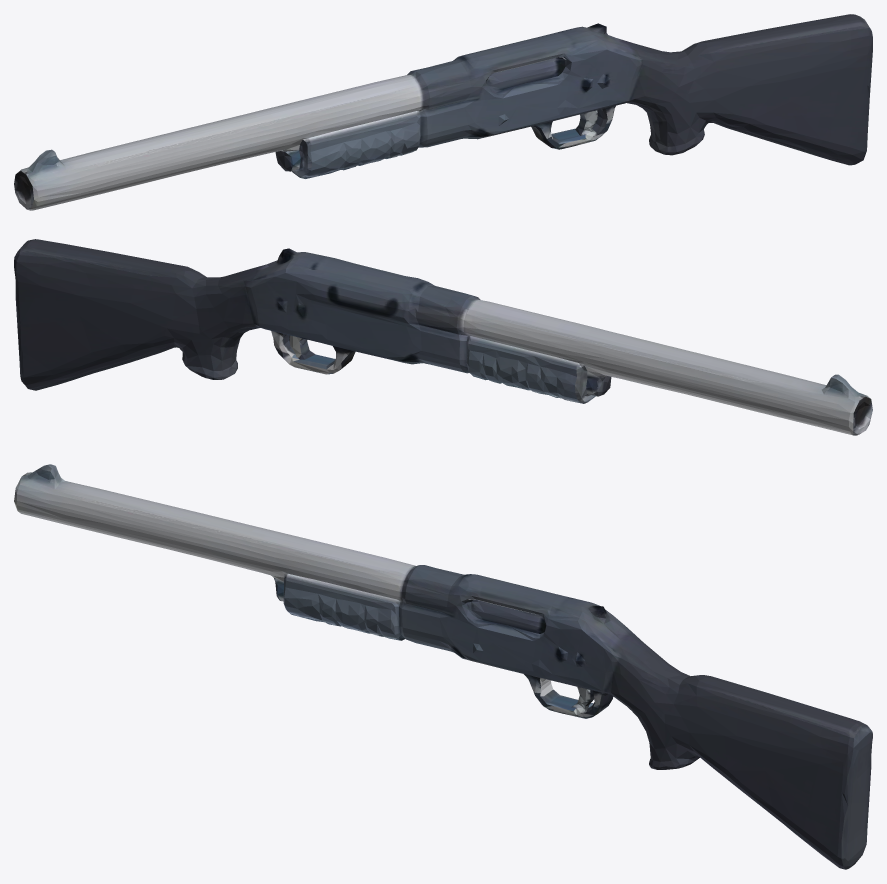
The model's file is shotgun.glb.
The picture shows the model from 3 angles, top to bottom: view 1: azimuth 30°, elevation 25°; view 2: azimuth 150°, elevation 25°; view 3: azimuth 330°, elevation 25°; orthographic projection.
Parts seen in each view (by area): view 1: shotgun; view 2: shotgun; view 3: shotgun.
Boxes of the visible parts, x1,y1,x2,y2 form: shotgun: (14,14,872,210); shotgun: (14,239,872,435); shotgun: (14,464,872,869).
Size of the model in its own units: 1.14 by 0.2694 by 0.0665.
Materials: 1 (1 with a texture image).
